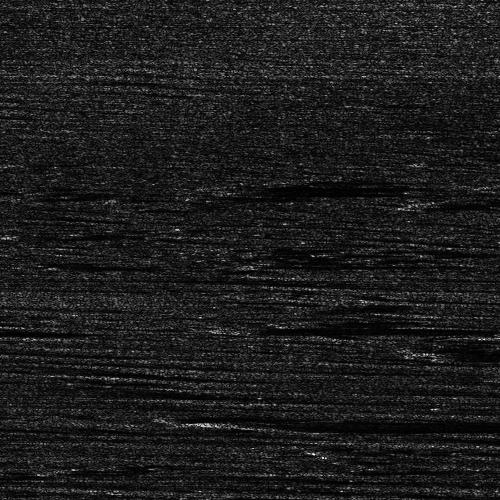rock: (230, 176, 261, 195), (443, 179, 500, 188), (198, 193, 229, 196), (487, 125, 500, 132)
shadow: (246, 176, 419, 195), (214, 193, 342, 196)
